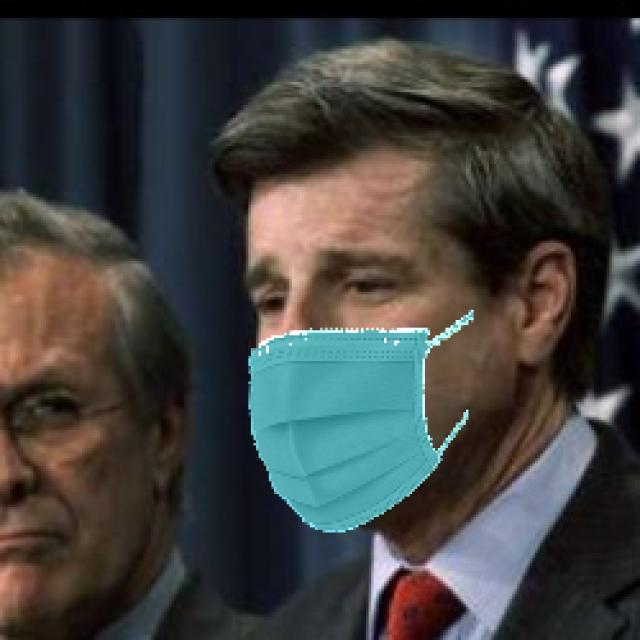mask: (232, 319, 521, 544)
